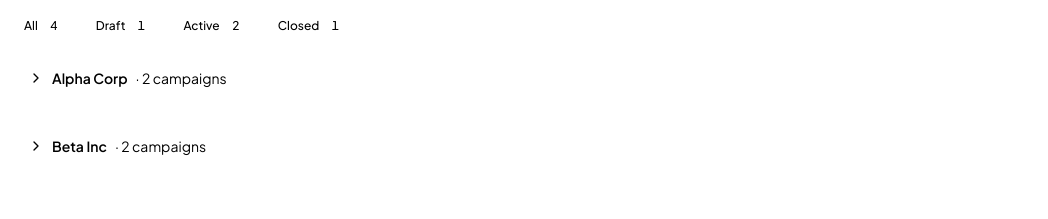
Test: CampaignsListWithFilter — grouped by company › shows a company when it has campaigns matching the selected filter
// Click DRAFT filter — only Alpha Corp has a DRAFT campaign
Click the button with test id "campaign-filter-pill-draft" at (124, 26), box [84, 12, 164, 40]
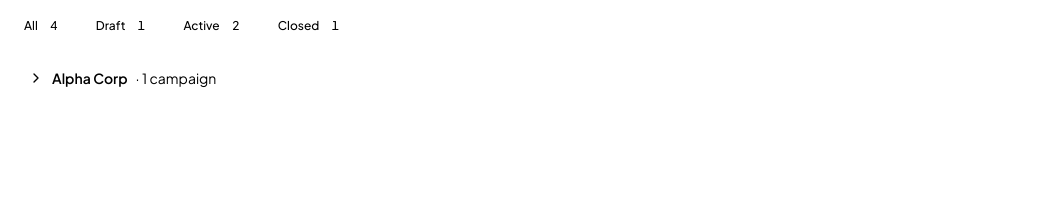
Expected: the button "Beta Inc" is gone
Click the button "Alpha Corp · 1 campaign" at (90, 78), box [12, 56, 1036, 100]
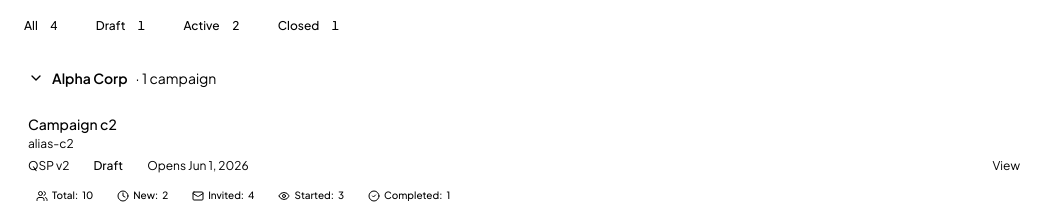
Expected: the link "Campaign c2" is shown, [28, 115, 117, 133]
